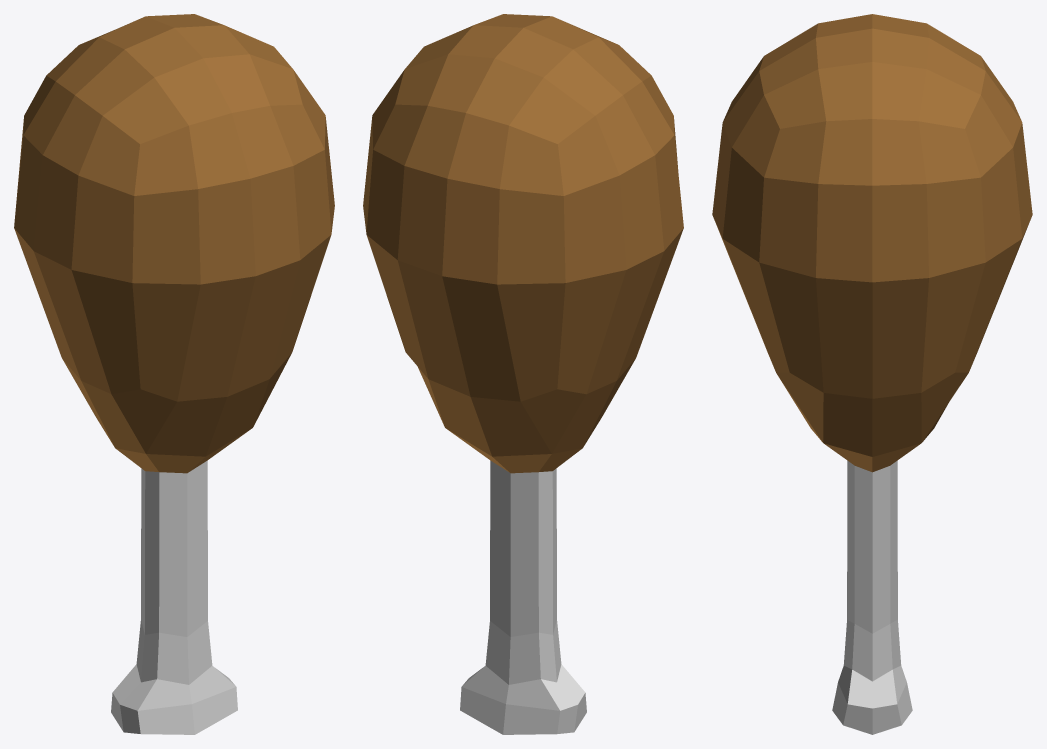
Rendered from chiken.fbx.
The picture shows the model from 3 angles, left to right: view 1: azimuth 30°, elevation 25°; view 2: azimuth 150°, elevation 25°; view 3: azimuth 270°, elevation 25°; orthographic projection.
Visible parts, largest first — view 1: chiken; view 2: chiken; view 3: chiken.
Part boxes in pixels (bbox=[...]): chiken: bbox=[14, 14, 334, 734]; chiken: bbox=[363, 14, 683, 734]; chiken: bbox=[712, 14, 1032, 734].
Size of the model in its own units: 4.5 by 10.72 by 4.5.
